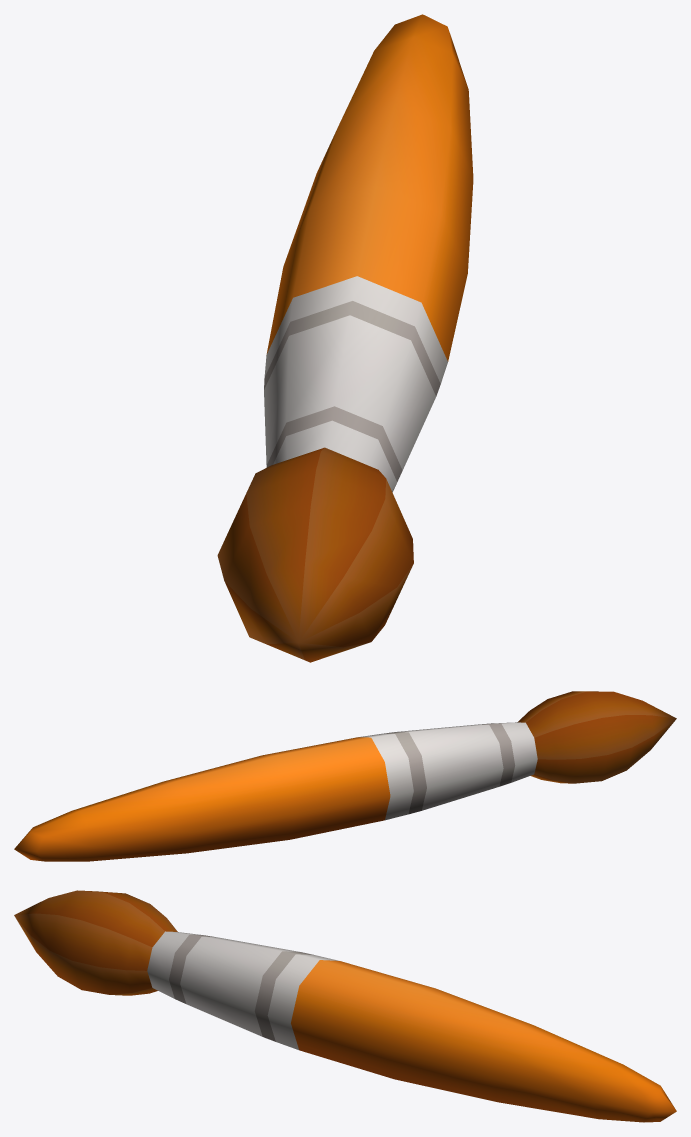
File: PaintBrush.fbx
The picture shows the model from 3 angles, top to bottom: view 1: azimuth 30°, elevation 25°; view 2: azimuth 150°, elevation 25°; view 3: azimuth 270°, elevation 25°; orthographic projection. The views are drawn at different scales.
Parts seen in each view (by area): view 1: PaintBrush; view 2: PaintBrush; view 3: PaintBrush.
Boxes of the visible parts, x1,y1,x2,y2 form: PaintBrush: (217, 14, 473, 662); PaintBrush: (14, 691, 676, 861); PaintBrush: (14, 890, 676, 1122).
Bounding box in the file's own units: 1932 × 451 × 2741.
Materials: 1 (1 with a texture image).
